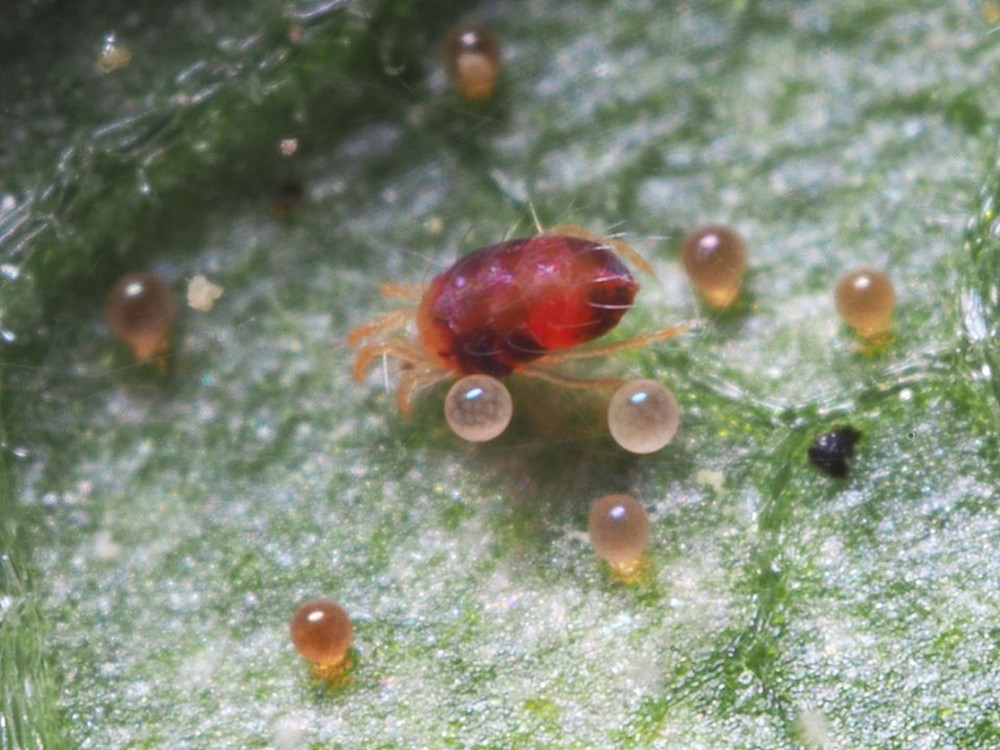Aracnido Rojo: (334, 203, 710, 423)
